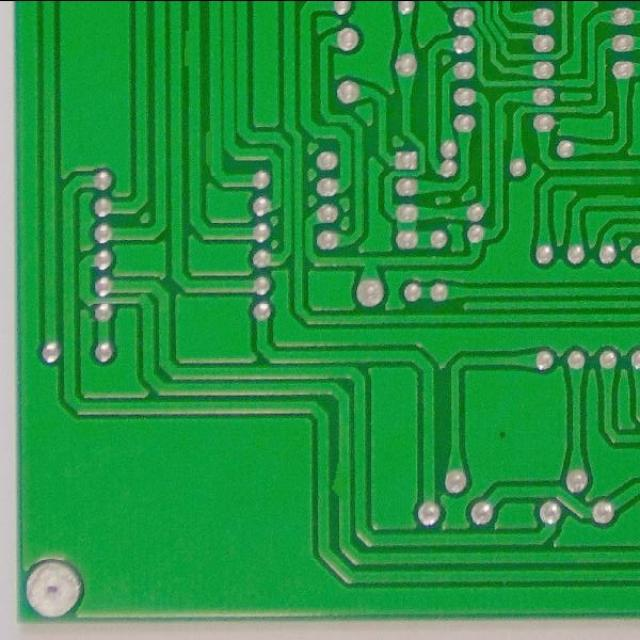Spur: (179, 23, 206, 74), (201, 124, 228, 170), (328, 471, 355, 504), (592, 189, 630, 210), (491, 110, 511, 145)
